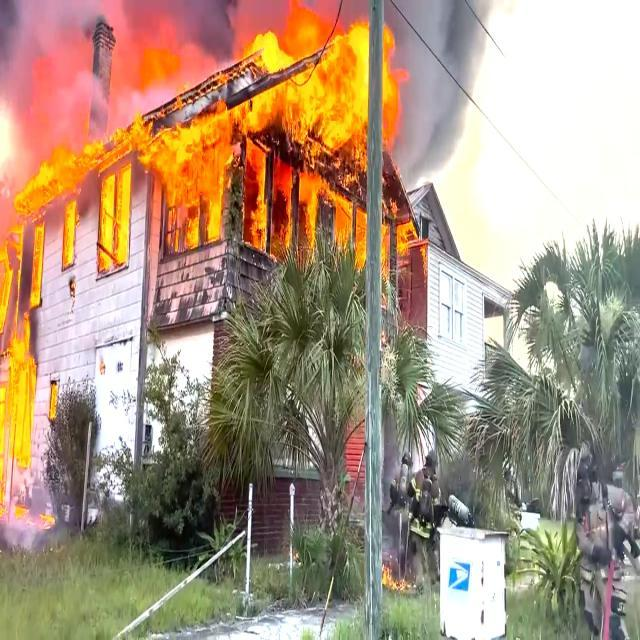Fire: (252, 36, 366, 152), (1, 340, 36, 488), (5, 150, 98, 187), (103, 172, 131, 274), (154, 140, 230, 177), (246, 159, 263, 247), (102, 120, 138, 160), (387, 28, 398, 152), (274, 158, 289, 242), (300, 176, 314, 242), (65, 201, 79, 262), (168, 191, 182, 250), (208, 184, 222, 240), (356, 210, 366, 262), (340, 198, 350, 248), (382, 227, 391, 280), (190, 192, 198, 250), (38, 232, 44, 306)
Smoke: (398, 0, 486, 169), (119, 0, 248, 56), (0, 0, 83, 76)
